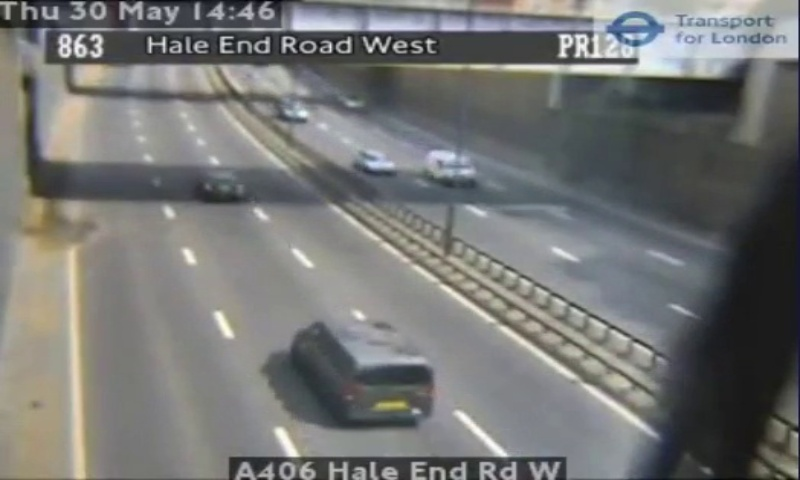car: (198, 168, 245, 199)
van: (294, 319, 436, 423)
